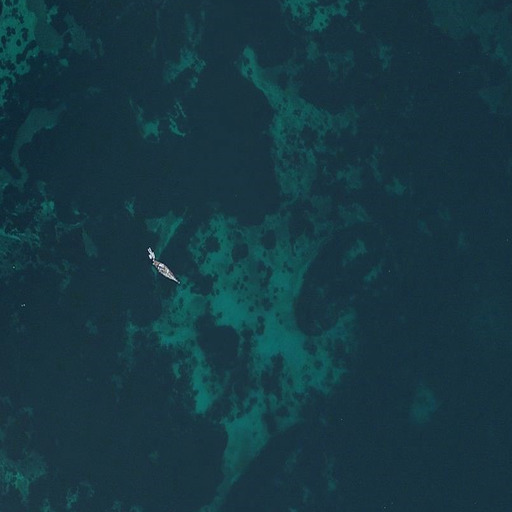ship: (143, 246, 180, 285)
